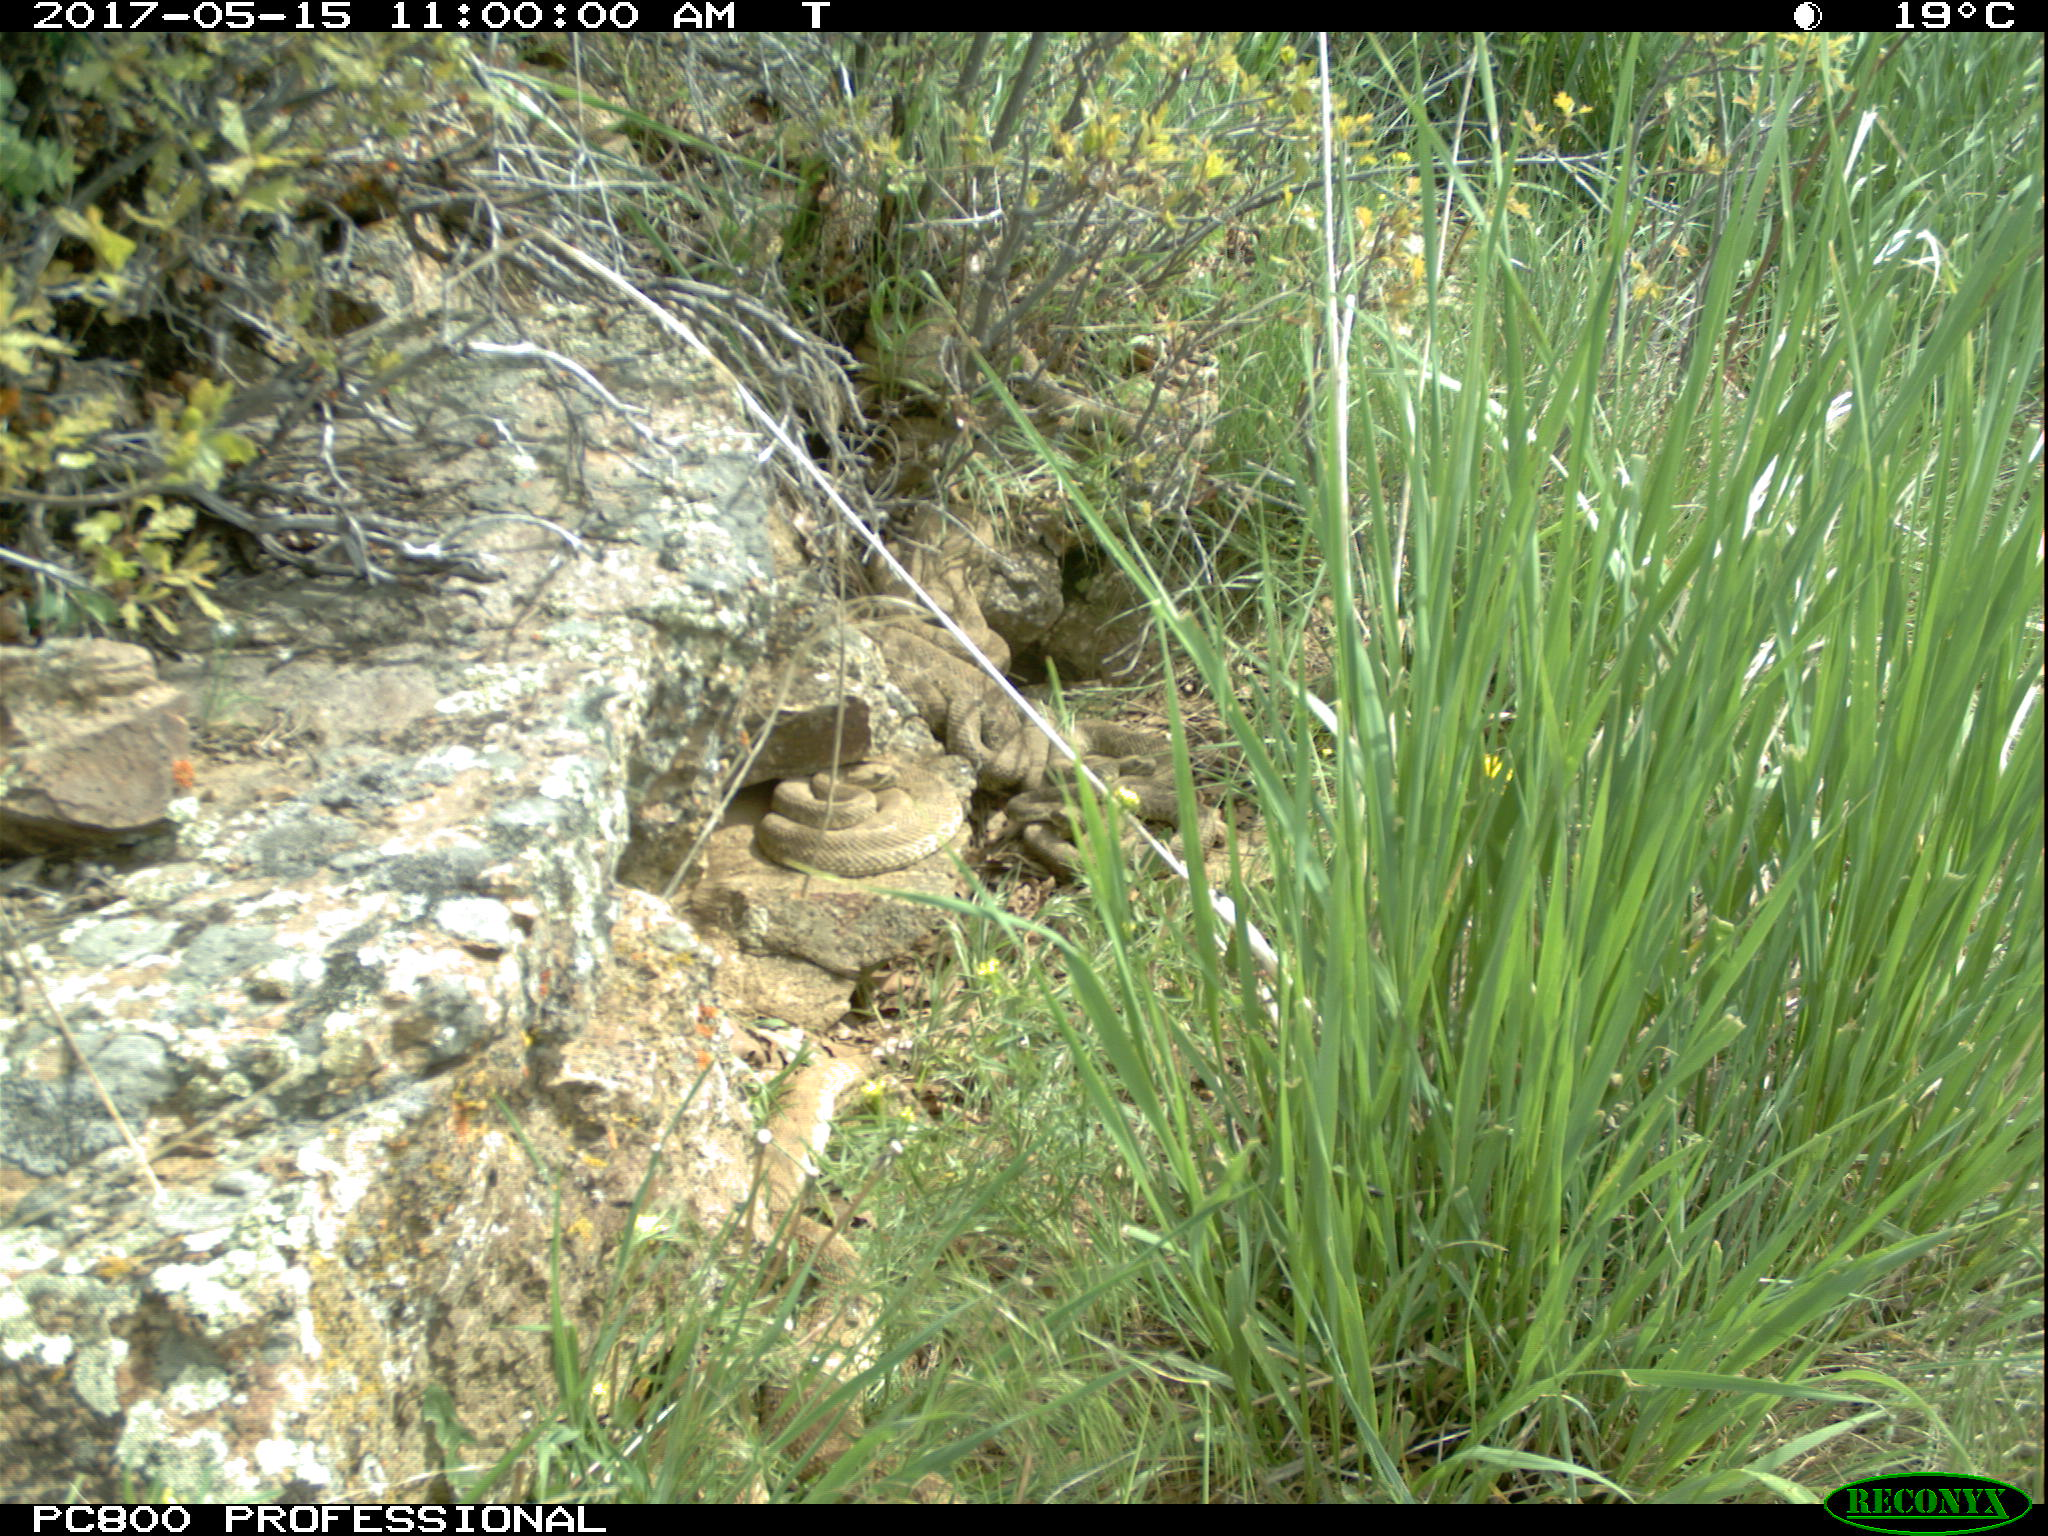snake: (751, 1046, 877, 1480), (863, 544, 1027, 712), (885, 637, 1059, 792), (756, 753, 963, 878), (1021, 718, 1208, 821), (977, 779, 1121, 886), (847, 307, 980, 399)
